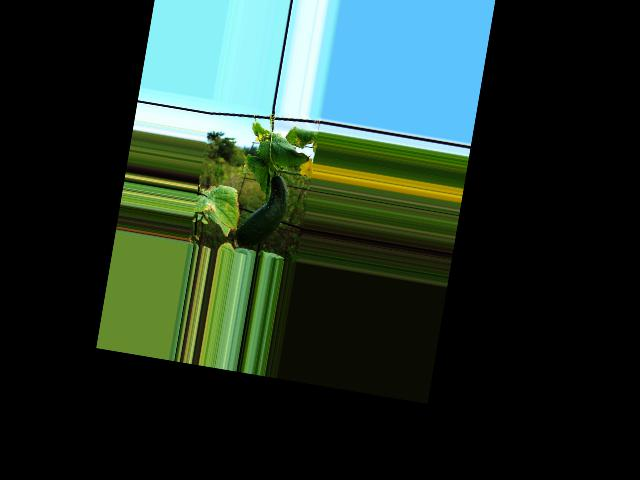cucumber: (233, 168, 292, 252)
